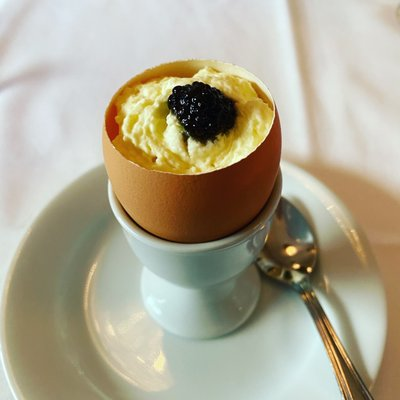pizza: (102, 58, 283, 244)
salad: (256, 199, 377, 400)
